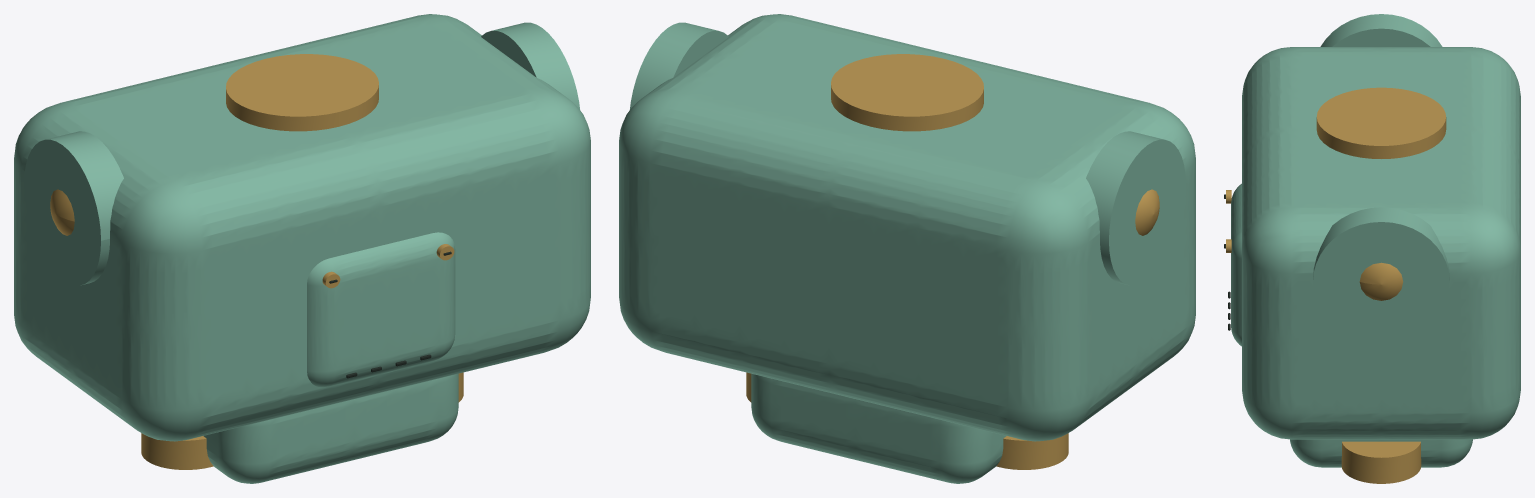
The model's file is brute-torso-1.glb.
3 views of the same model, side by side, from view 1: azimuth 30°, elevation 25°; view 2: azimuth 150°, elevation 25°; view 3: azimuth 270°, elevation 25° (orthographic). The views are drawn at different scales.
Parts seen in each view (by area): view 1: torso_clay, torso_paint, torso_hardware; view 2: torso_clay, torso_paint, torso_hardware; view 3: torso_clay, torso_paint, torso_hardware.
Boxes of the visible parts, bbox=[...] form: torso_clay: bbox=[14, 14, 590, 483]; torso_paint: bbox=[24, 22, 579, 285]; torso_hardware: bbox=[50, 54, 463, 469]; torso_clay: bbox=[619, 14, 1195, 483]; torso_paint: bbox=[630, 22, 1185, 285]; torso_hardware: bbox=[746, 54, 1159, 469]; torso_clay: bbox=[1231, 47, 1520, 467]; torso_paint: bbox=[1313, 14, 1449, 341]; torso_hardware: bbox=[1226, 87, 1446, 483].
Size of the model in its own units: 1.79 by 1.21 by 1.05.
